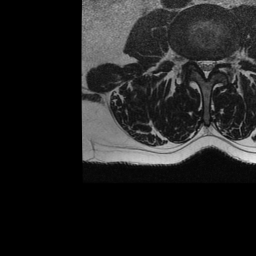CCS_normal: (202, 54, 208, 83)
LFS_stenosis: (215, 50, 222, 71)
LLS_stenosis: (208, 54, 214, 76)
RFS_severe_stenosis: (188, 51, 195, 68)
RLS_stenosis: (195, 54, 202, 76)
